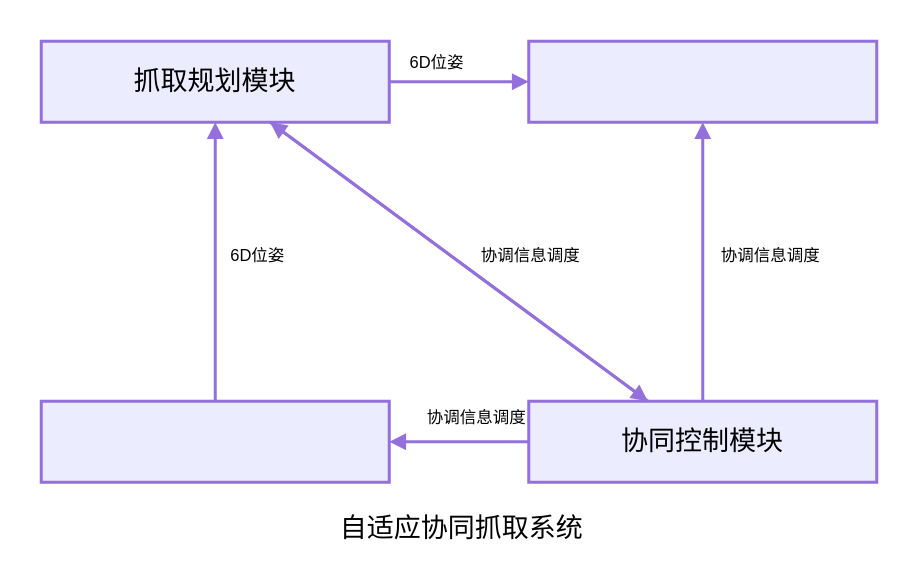
The diagram is 921 pixels wide and 576 high, and some of its shapes have lost their labels. Each missing label, with the box of its shape:
抓取位姿估计模块: (39, 399, 390, 483)
机械爪运动控制模块: (526, 39, 878, 123)
